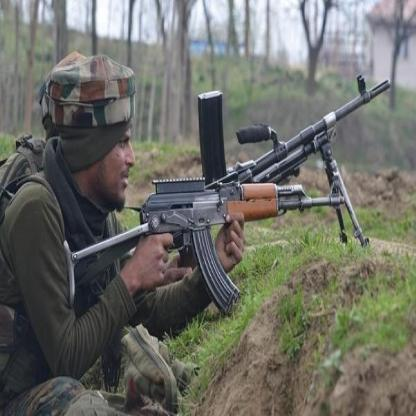Gun: (60, 169, 344, 313)
